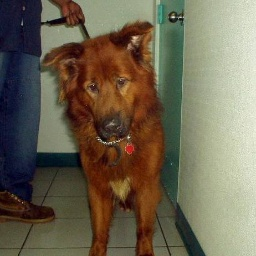dog: (44, 24, 167, 253)
